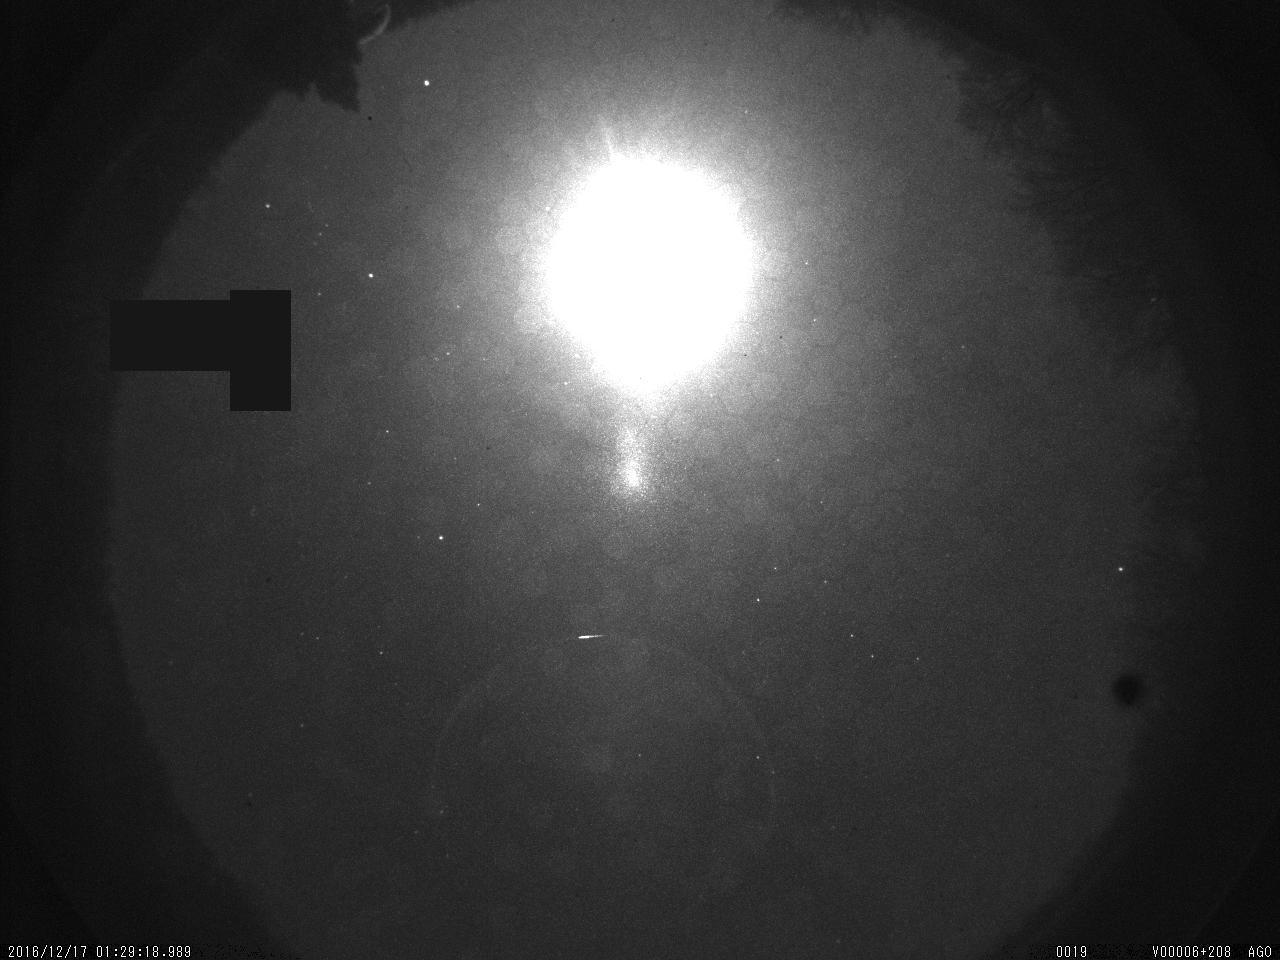meteor: (572, 625, 611, 648)
